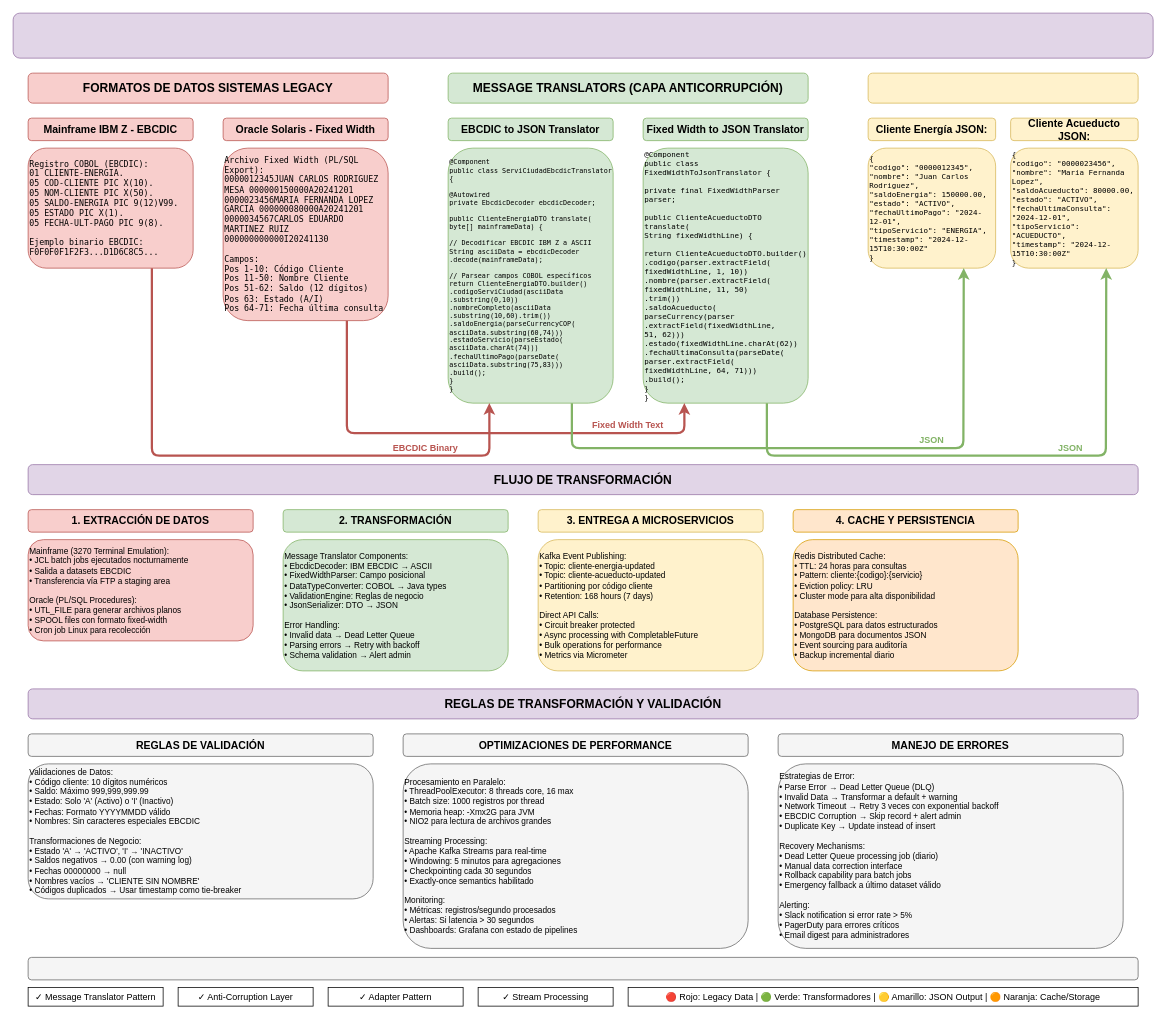
The diagram is 1166 pixels wide and 1019 high, and some of its shapes have lost their labels. The centre of each missing label's shape, as x and y in pixels:
"LEYENDA - PATRONES Y TECNOLOGÍAS" belongs at (582,968).
"MESSAGE TRANSLATOR PATTERN - TRANSFORMACIÓN DATOS LEGACY SERVICIUDAD" belongs at (582,35).
"SALIDA JSON UNIFICADA" belongs at (1002,87).
